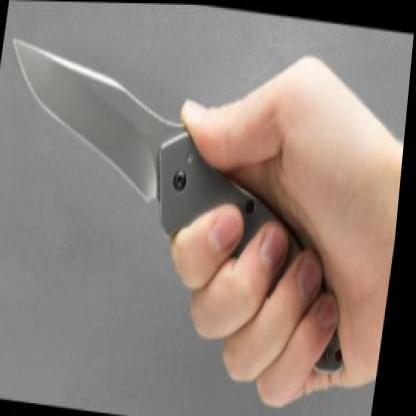knife: (0, 19, 318, 328)
